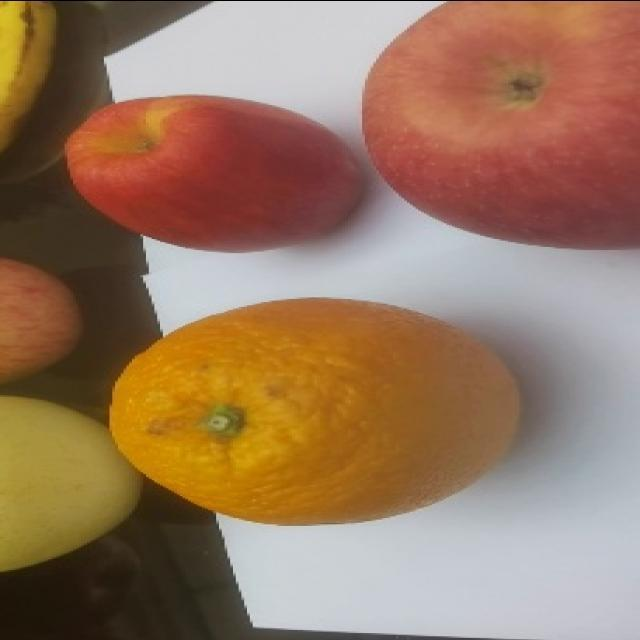Apple: (361, 0, 639, 250), (63, 92, 365, 253), (0, 256, 83, 385)
Orange: (108, 295, 521, 526)
